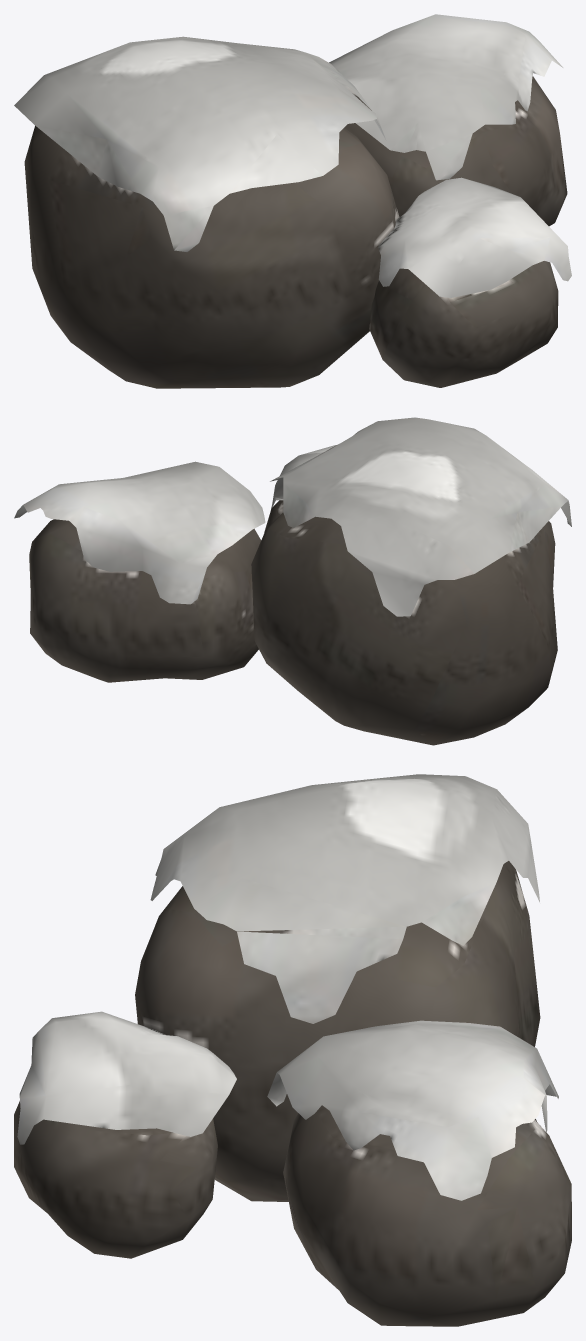
File: rock_c.glb
3 views of the same model, one above another, from view 1: azimuth 30°, elevation 25°; view 2: azimuth 150°, elevation 25°; view 3: azimuth 270°, elevation 25° (orthographic). The views are drawn at different scales.
Visible parts, largest first — view 1: prop_rock_c_felt; view 2: prop_rock_c_felt; view 3: prop_rock_c_felt.
Boxes of the visible parts, left/top/right/bottom form: prop_rock_c_felt: left=14, top=14, right=571, bottom=388; prop_rock_c_felt: left=14, top=417, right=571, bottom=745; prop_rock_c_felt: left=14, top=774, right=571, bottom=1326.
Size of the model in its own units: 1.06 by 0.5731 by 0.7883.
Materials: 1 (1 with a texture image).
